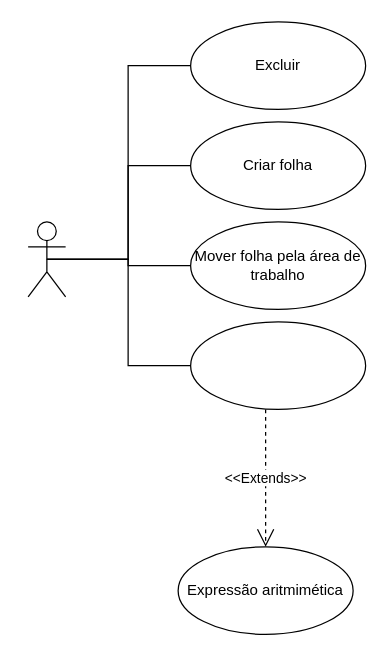
This 388x656 diagram has some shape labels left out. The shapes that lost their labels are listed below. From the top down, each one's centre as x and y in pixels, then its label:
At point (46, 259): "Usuário".
At point (277, 365): "Escrever texto".
